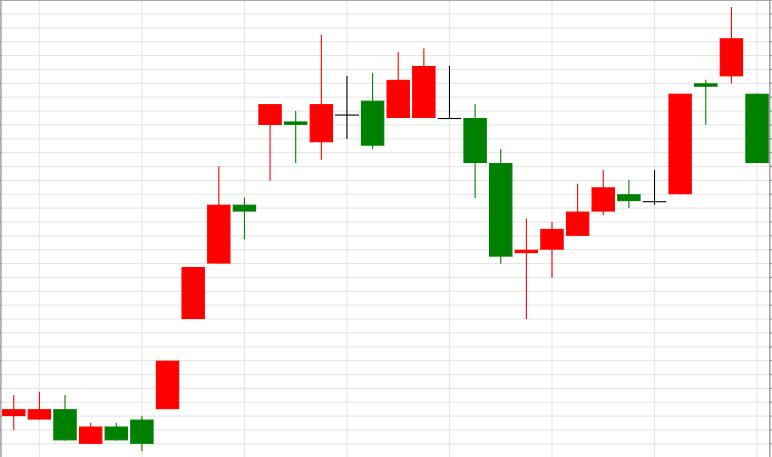shooting_star_fall: (156, 35, 333, 410)
three_white_soldiers_rise: (2, 164, 231, 452)
